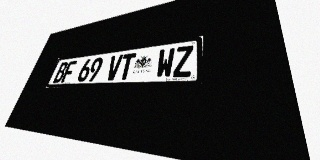6: (76, 58, 94, 82)
9: (86, 57, 104, 81)
B: (52, 62, 69, 83)
F: (61, 60, 77, 83)
T: (117, 53, 136, 80)
V: (105, 54, 123, 81)
W: (155, 47, 175, 78)
Z: (173, 45, 193, 77)
